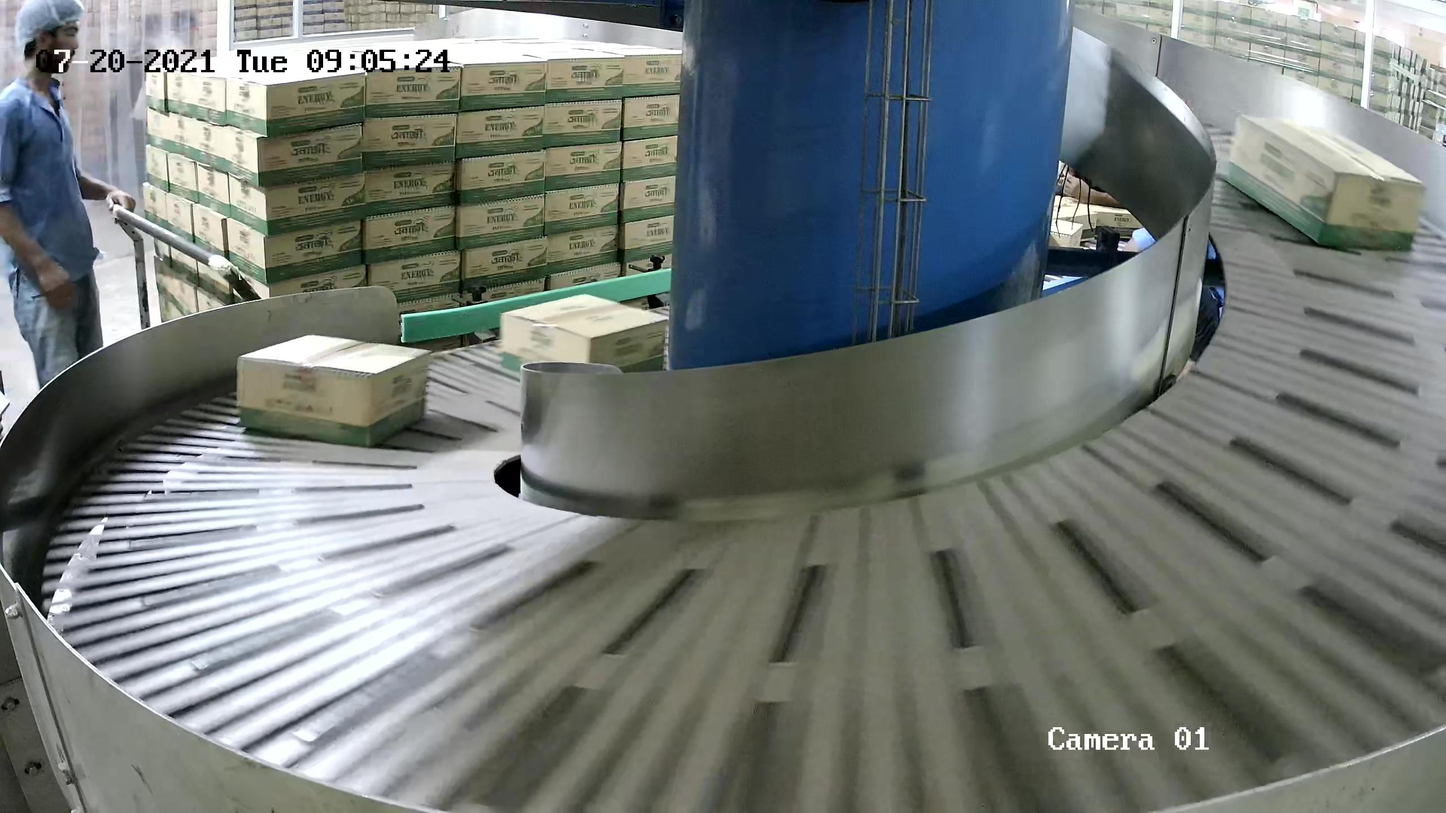Box: (1223, 111, 1428, 253), (235, 332, 434, 450), (498, 292, 669, 380)
